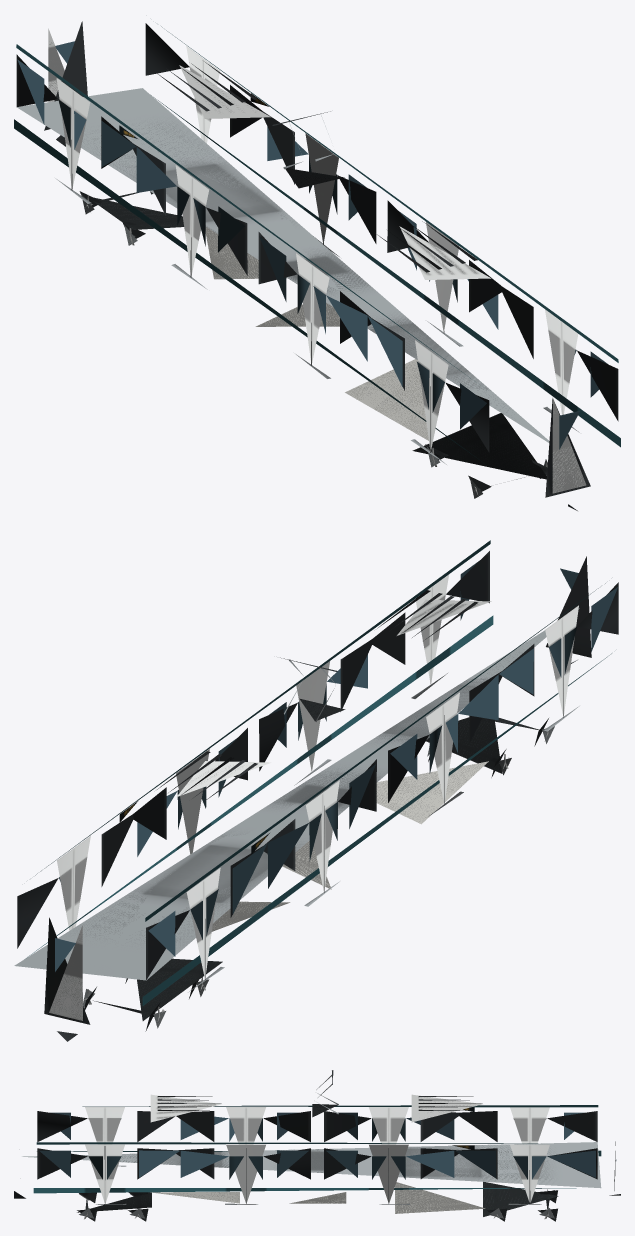
Rendered from urban_trailer.lod2.obj.
3 renders of one model, top to bottom at view 1: azimuth 30°, elevation 25°; view 2: azimuth 150°, elevation 25°; view 3: azimuth 270°, elevation 25°, orthographic. The views are drawn at different scales.
Parts seen in each view (by area): view 1: urban_trailer; view 2: urban_trailer; view 3: urban_trailer.
Part boxes in pixels (box(x1,y1,x2,y2)): urban_trailer: box(14, 21, 620, 510); urban_trailer: box(14, 540, 618, 1041); urban_trailer: box(14, 1070, 620, 1221).
Bounding box in the file's own units: 3.08 × 4.83 × 20.
1 material, 1 textured.
